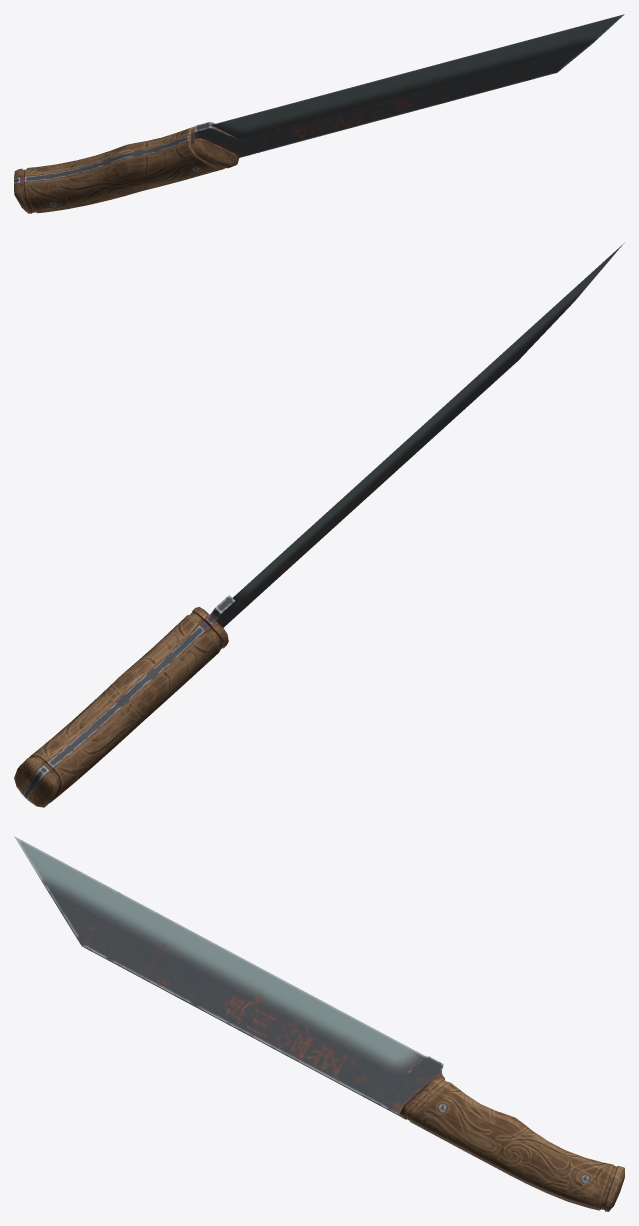
File: knife.obj
3 views of the same model, one above another, from view 1: azimuth 90°, elevation 25°; view 2: azimuth 150°, elevation 25°; view 3: azimuth 270°, elevation 25° (orthographic). The views are drawn at different scales.
Visible parts, largest first — view 1: Cube.008_Material_0; view 2: Cube.008_Material_0; view 3: Cube.008_Material_0.
Part boxes in pixels (bbox=[...]): Cube.008_Material_0: bbox=[14, 14, 624, 213]; Cube.008_Material_0: bbox=[14, 242, 624, 807]; Cube.008_Material_0: bbox=[14, 836, 624, 1211].
Bounding box in the file's own units: 7.04 × 9.66 × 18.64.
Materials: 1 (1 with a texture image).
